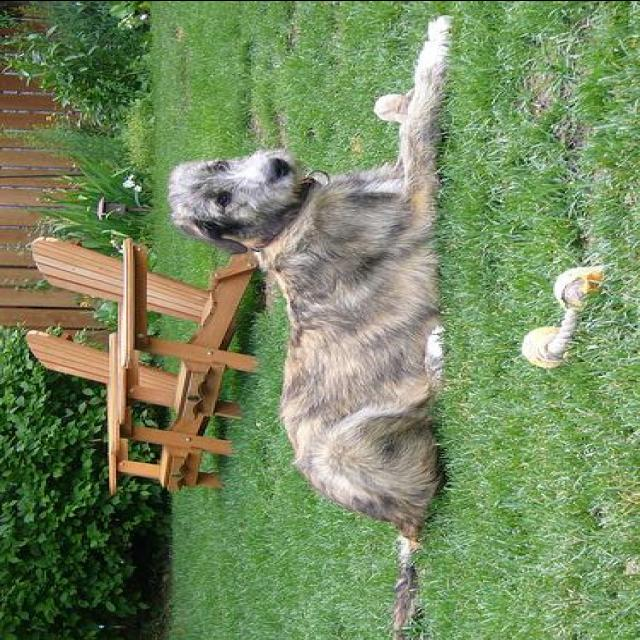irish_wolfhound: (166, 11, 466, 638)
